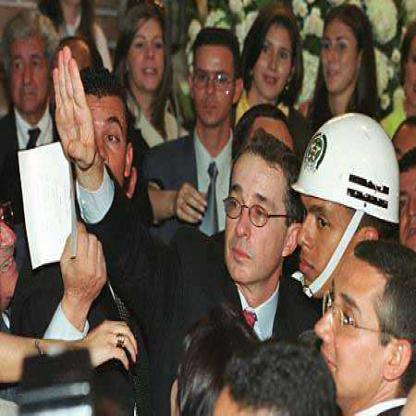face: (315, 241, 397, 412), (296, 143, 367, 305), (224, 139, 291, 293), (66, 72, 131, 210), (192, 29, 237, 130), (8, 12, 51, 115), (320, 9, 361, 100), (257, 9, 296, 102), (130, 4, 170, 94)
